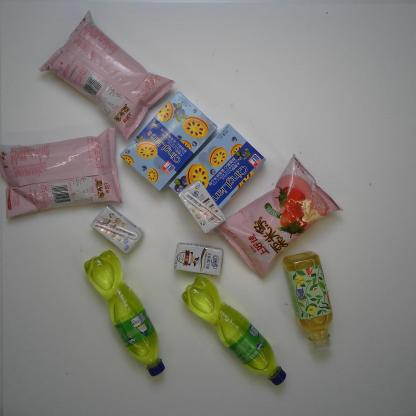Dessert: (119, 91, 217, 191), (169, 122, 266, 223)
Drink: (180, 276, 286, 388), (82, 249, 166, 378), (282, 251, 336, 362)
Milk: (90, 205, 144, 254), (180, 181, 224, 233), (173, 242, 225, 276)
Puffed Food: (37, 10, 174, 140), (215, 150, 342, 279), (0, 128, 124, 218)
